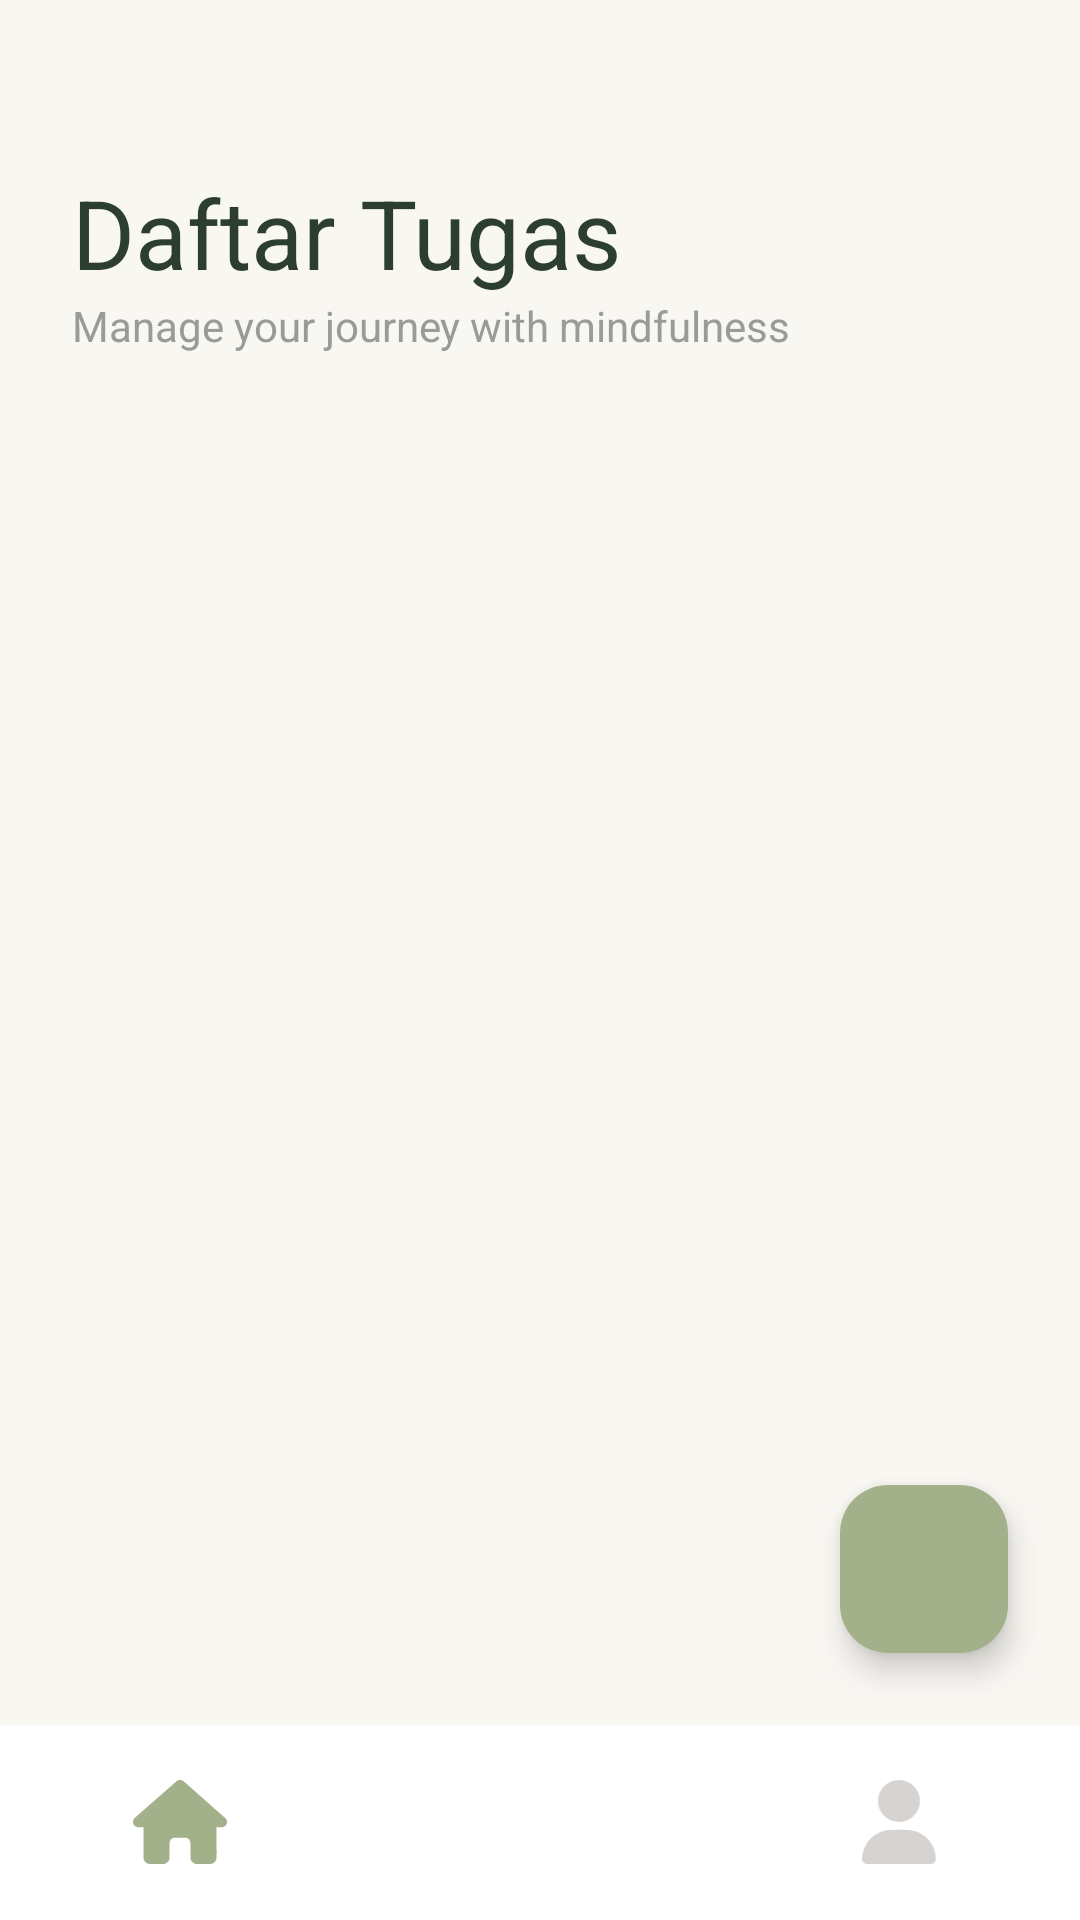

Locate icon controls on the screen. Image size 1080x1920, boxes as (x1, y1, x2, y2).
home: (133, 1780, 227, 1864)
profile: (862, 1780, 936, 1864)
